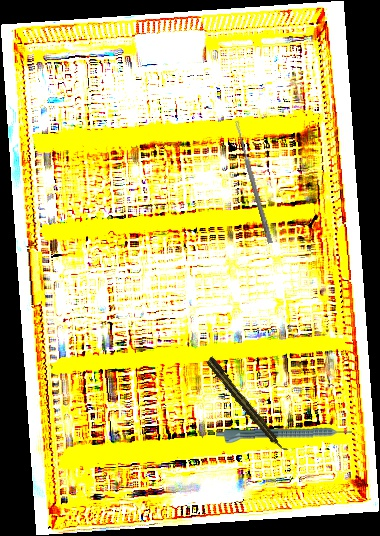Handpiece: (204, 355, 289, 456), (215, 426, 353, 446)
Surgical Spoon: (233, 120, 274, 244)
